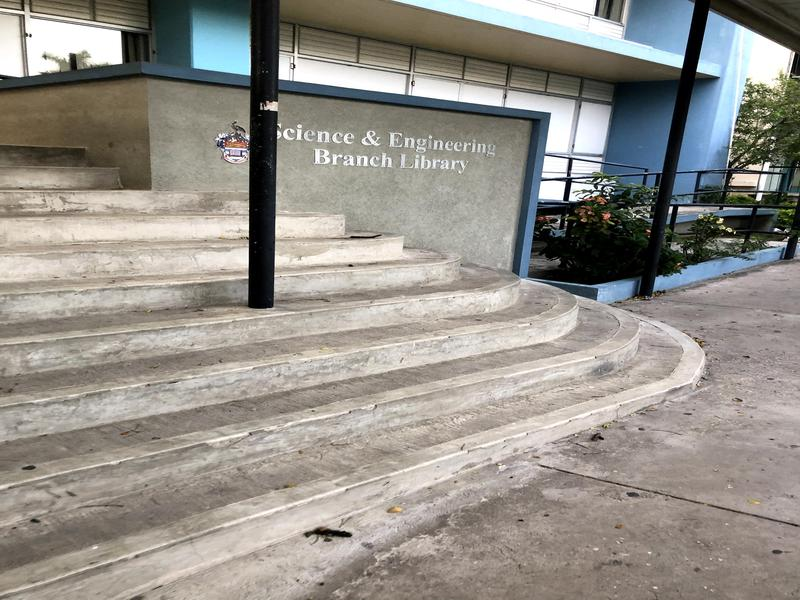18.0053644_-76.7493880_librarysign: (274, 111, 515, 184)
